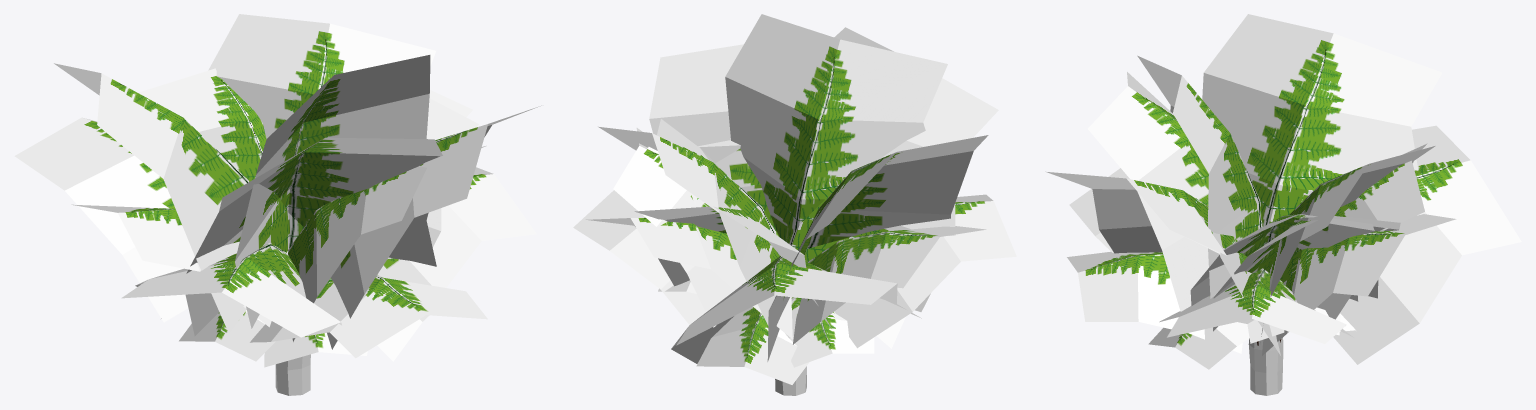
Rendered from dicksonia_antarctica_medium.fbx.
3 views of the same model, side by side, from view 1: azimuth 30°, elevation 25°; view 2: azimuth 150°, elevation 25°; view 3: azimuth 270°, elevation 25° (orthographic). The views are drawn at different scales.
Parts seen in each view (by area): view 1: dicksonia_antarctica_fern_medium_LOD0, dicksonia_antarctica_medium_LOD0; view 2: dicksonia_antarctica_fern_medium_LOD0, dicksonia_antarctica_medium_LOD0; view 3: dicksonia_antarctica_fern_medium_LOD0, dicksonia_antarctica_medium_LOD0.
Part boxes in pixels (x1,y1,x2,y2): dicksonia_antarctica_fern_medium_LOD0: (14, 14, 541, 367); dicksonia_antarctica_medium_LOD0: (275, 251, 310, 395); dicksonia_antarctica_fern_medium_LOD0: (573, 14, 1016, 384); dicksonia_antarctica_medium_LOD0: (775, 366, 806, 395); dicksonia_antarctica_fern_medium_LOD0: (1045, 14, 1521, 369); dicksonia_antarctica_medium_LOD0: (1248, 338, 1283, 395).
Size of what is drawn, in the model's own units: 1009 by 817 by 1128.
